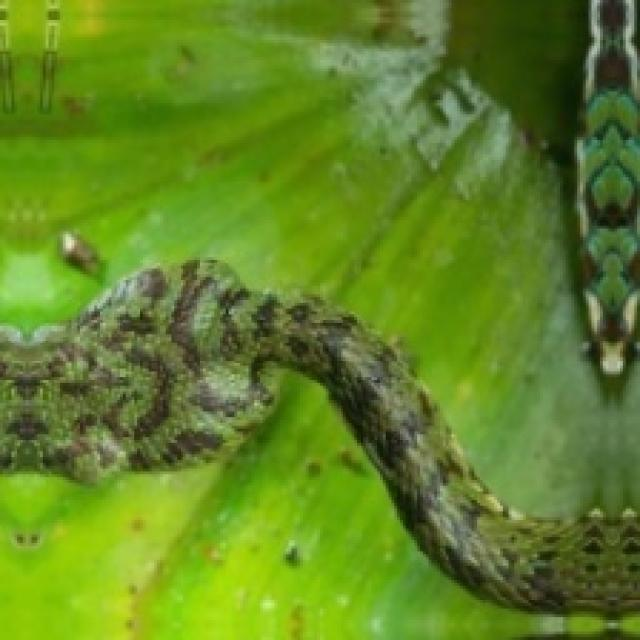philippine pitviper: (0, 260, 637, 623)
